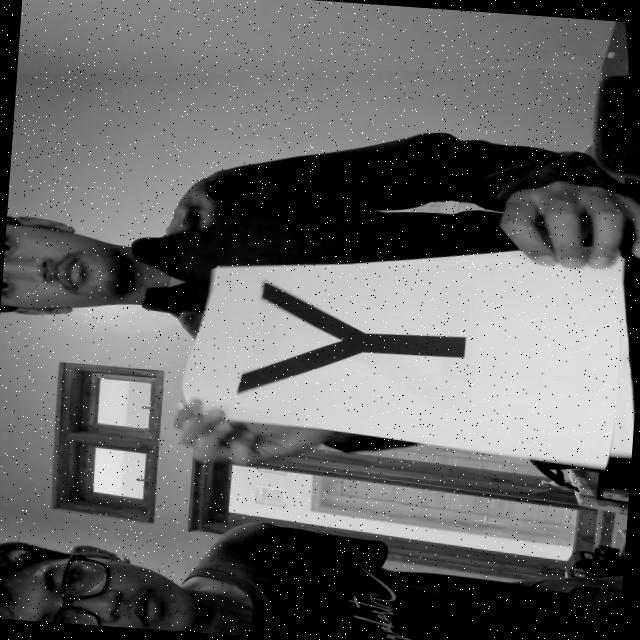y: (220, 270, 494, 417)
